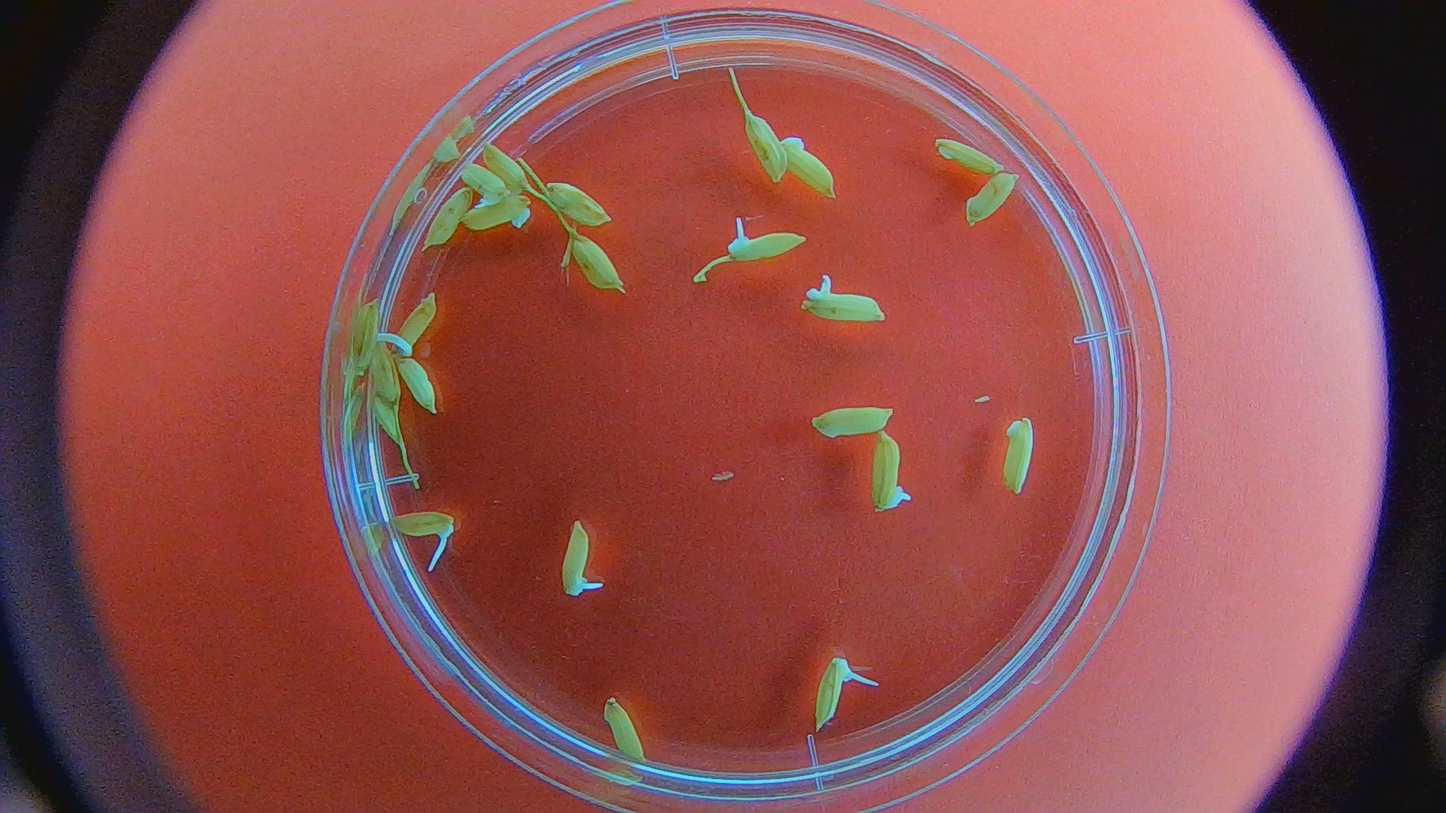no: (779, 137, 845, 203), (929, 132, 1009, 181), (806, 401, 896, 443), (960, 169, 1019, 232), (391, 352, 447, 417), (594, 696, 644, 768), (551, 181, 611, 227), (574, 236, 624, 290), (1003, 413, 1034, 499), (748, 115, 787, 182), (424, 192, 468, 248), (462, 196, 531, 230), (486, 144, 532, 195), (348, 302, 378, 376), (368, 344, 398, 402), (368, 397, 401, 448)
yes: (802, 286, 883, 324), (871, 427, 905, 515), (730, 228, 802, 266), (558, 520, 593, 598), (810, 656, 849, 725), (457, 160, 510, 210), (392, 300, 437, 355), (386, 509, 456, 542)
